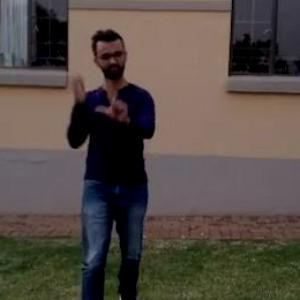land_hand: (93, 80, 135, 127)
